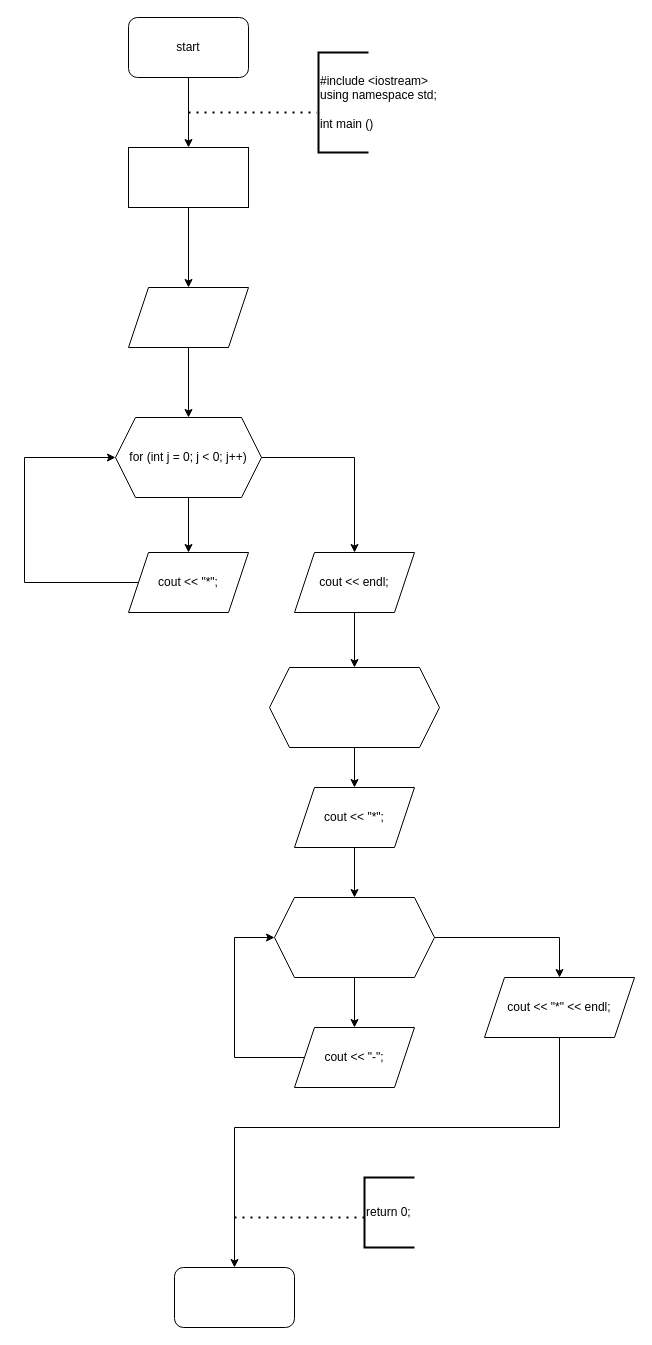
This 652x1345 diagram has some shape labels left out. Each missing label, with the centre of its shape:
cin >> n;: point 188,317
end: point 234,1297
for (int i = 0; i < n - 2; i++): point 354,707
for (int j = 0; j < n - 2; j++): point 354,937
int n;: point 188,177
